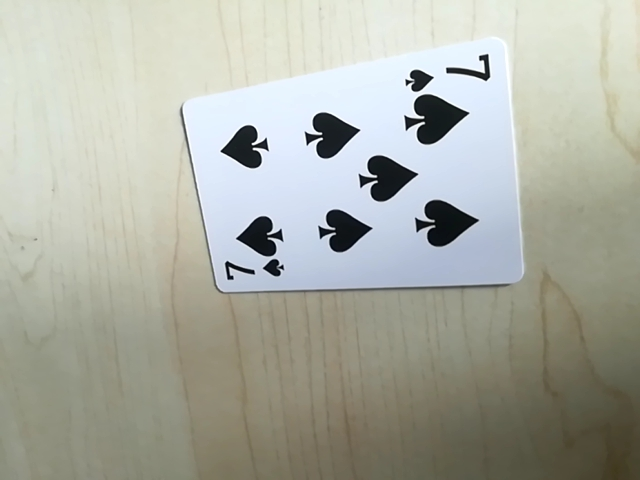ht 7: (399, 50, 499, 90), (213, 256, 288, 291)
